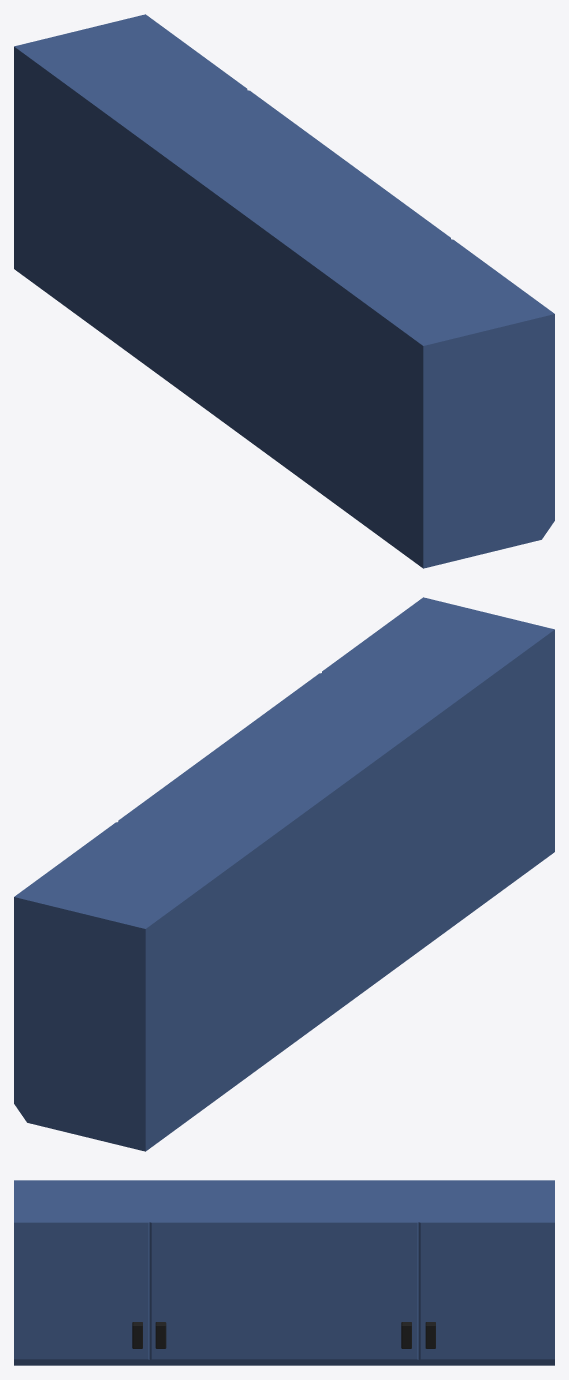
File: Obj_LabCeilingC.fbx
The picture shows the model from 3 angles, top to bottom: view 1: azimuth 30°, elevation 25°; view 2: azimuth 150°, elevation 25°; view 3: azimuth 270°, elevation 25°; orthographic projection. The views are drawn at different scales.
Parts seen in each view (by area): view 1: Obj_LabCeilingC; view 2: Obj_LabCeilingC; view 3: Obj_LabCeilingC.
Boxes of the visible parts, x1=… form: Obj_LabCeilingC: x1=14, y1=14, x2=554, y2=568; Obj_LabCeilingC: x1=14, y1=597, x2=554, y2=1151; Obj_LabCeilingC: x1=14, y1=1180, x2=554, y2=1365.
Size of the model in its own units: 1 by 1.5 by 5.
